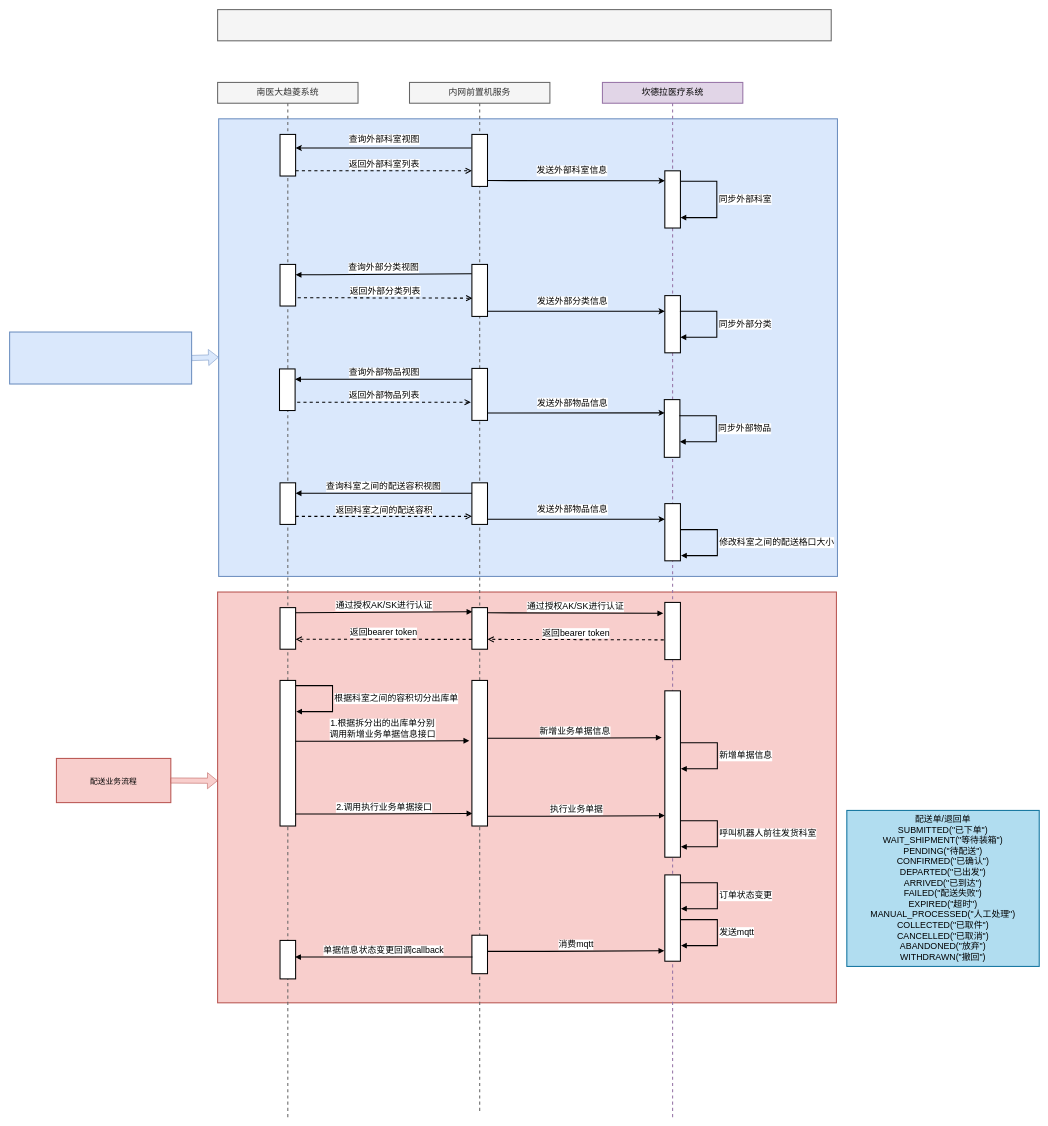
This 1048x1126 diagram has some shape labels left out. The shapes that lost their labels are listed below. From the top down, each one's centre as x and y in pixels, then its label:
point 524,25: 南医大对接流程
point 100,357: 坎德拉通过视图获取 南医大趋菱系统基础数据
